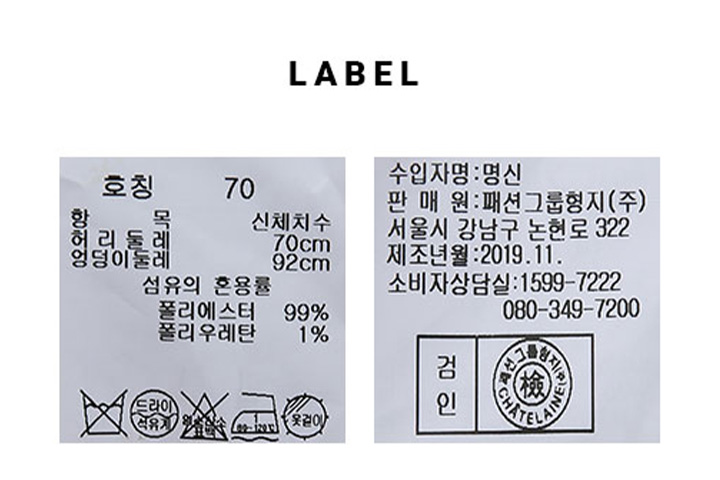KR_dry_clean_petroleum: (129, 387, 181, 440)
KR_hang_dry_in_shade: (279, 391, 332, 440)
KR_iron_low_temp_with_cloth: (230, 390, 281, 442)
KR_no_bleach: (179, 390, 230, 443)
KR_no_wash: (78, 386, 129, 439)
